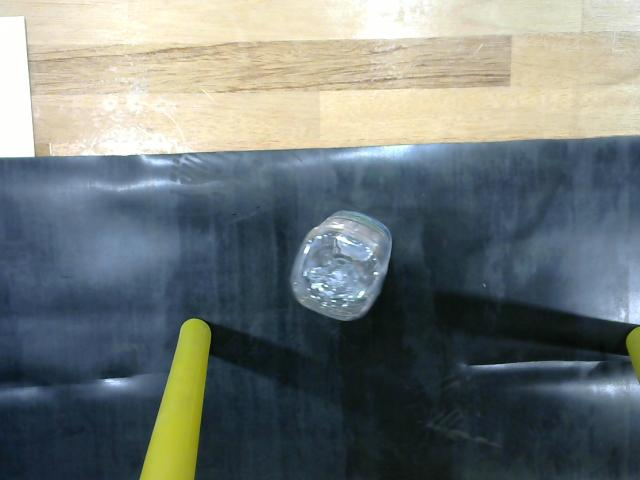bottle: (280, 201, 399, 336)
